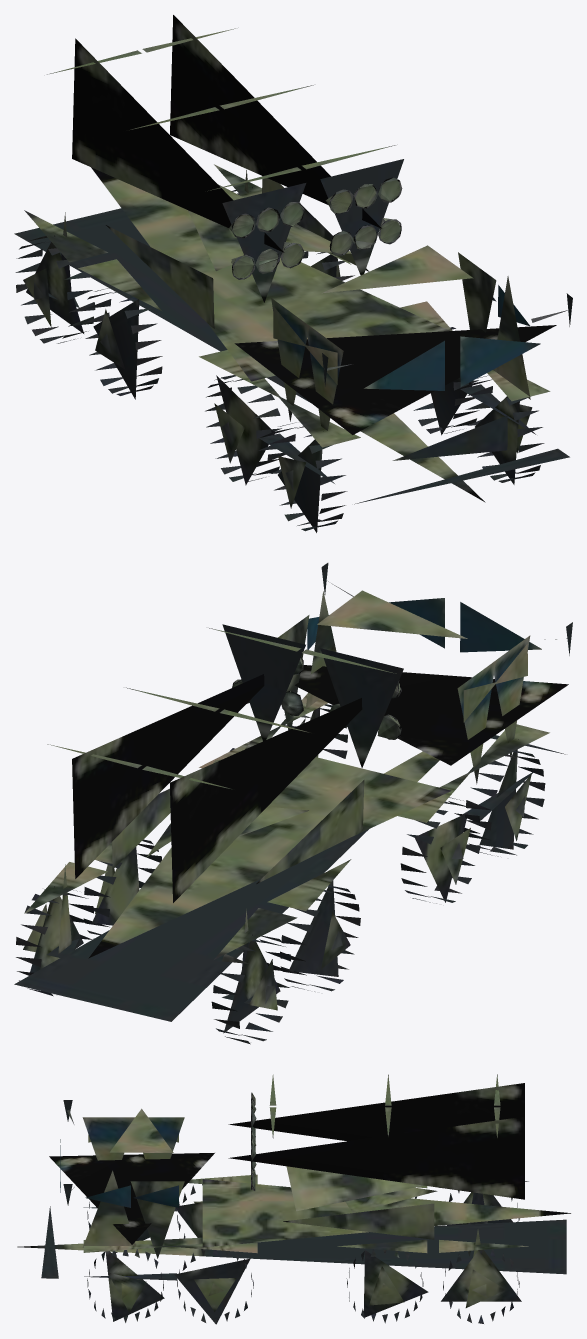
The model's file is tower_artillery_4a.glb.
3 renders of one model, top to bottom at view 1: azimuth 30°, elevation 25°; view 2: azimuth 150°, elevation 25°; view 3: azimuth 270°, elevation 25°, orthographic. The views are drawn at different scales.
Visible parts, largest first — view 1: LOW; view 2: LOW; view 3: LOW.
Boxes of the visible parts, box(x1,y1,x2,y2) form: LOW: box(14, 15, 572, 532); LOW: box(14, 563, 572, 1044); LOW: box(17, 1074, 570, 1324).
Size of the model in its own units: 3.52 by 3.3 by 8.73.
Materials: 1 (1 with a texture image).
